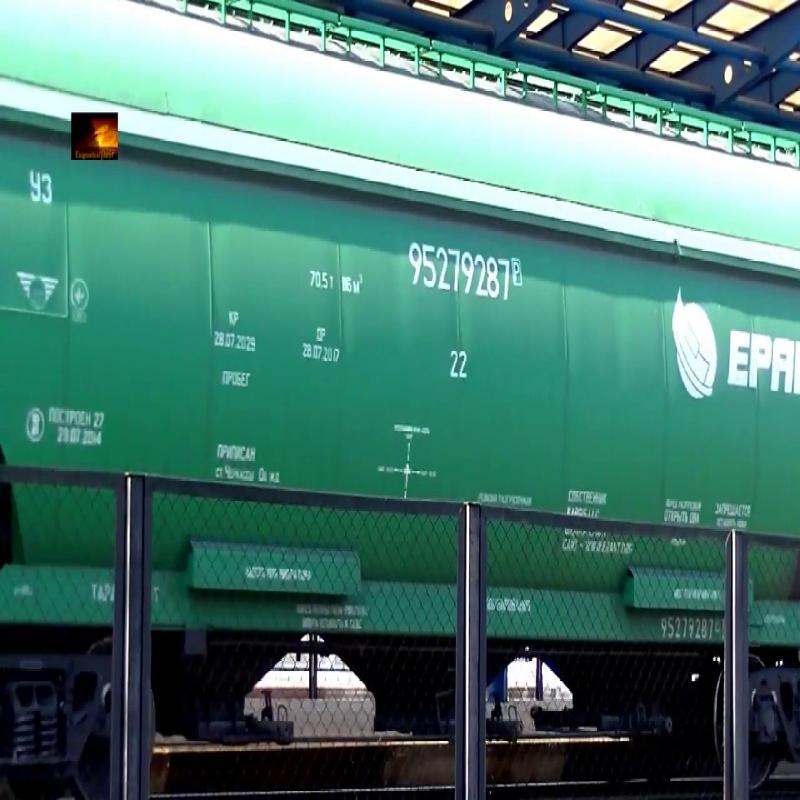train: (39, 1, 800, 763)
